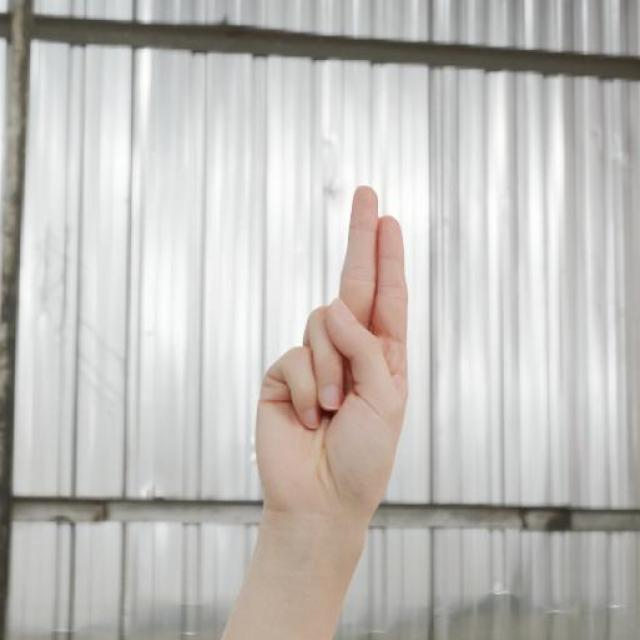U: (246, 178, 415, 514)
